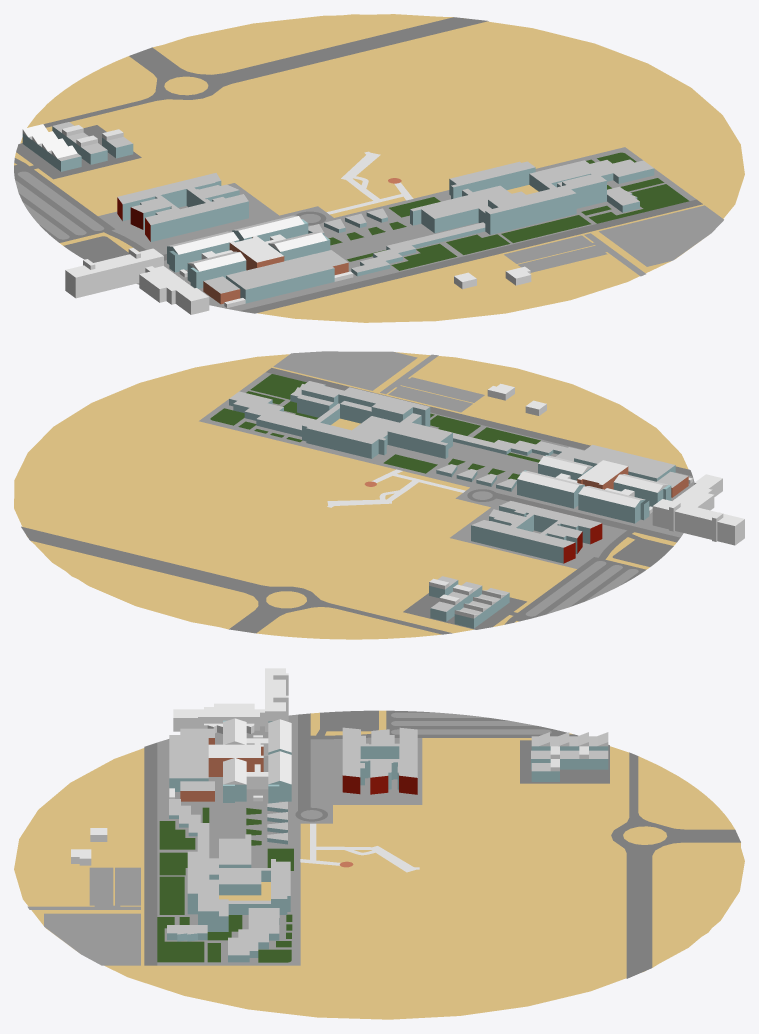
The model's file is CirceSurroundings.obj.
The picture shows the model from 3 angles, top to bottom: view 1: azimuth 30°, elevation 25°; view 2: azimuth 150°, elevation 25°; view 3: azimuth 270°, elevation 25°; orthographic projection. The views are drawn at different scales.
Parts seen in each view (by area): view 1: Solids, Solids__Buildings, Solids__Pavement, Solids__GenericGround, Solids__Roads, Solids__Grass, Solids__CirceConcrete; view 2: Solids, Solids__Buildings, Solids__Pavement, Solids__GenericGround, Solids__Roads, Solids__Grass, Solids__CirceConcrete; view 3: Solids, Solids__Buildings, Solids__Pavement, Solids__Roads, Solids__GenericGround, Solids__Grass, Solids__CirceConcrete.
Part boxes in pixels (bbox=[...]): Solids: bbox=[20, 14, 744, 322]; Solids__Buildings: bbox=[22, 122, 654, 314]; Solids__Pavement: bbox=[15, 147, 723, 310]; Solids__GenericGround: bbox=[14, 14, 538, 252]; Solids__Roads: bbox=[14, 17, 702, 313]; Solids__Grass: bbox=[328, 152, 689, 270]; Solids__CirceConcrete: bbox=[326, 151, 413, 214]; Solids: bbox=[14, 352, 688, 633]; Solids__Buildings: bbox=[229, 381, 744, 628]; Solids__Pavement: bbox=[199, 351, 694, 616]; Solids__GenericGround: bbox=[30, 418, 676, 639]; Solids__Roads: bbox=[21, 368, 692, 634]; Solids__Grass: bbox=[210, 374, 540, 479]; Solids__CirceConcrete: bbox=[327, 469, 465, 507]; Solids: bbox=[14, 738, 744, 1019]; Solids__Buildings: bbox=[71, 668, 608, 962]; Solids__Pavement: bbox=[27, 712, 551, 965]; Solids__Roads: bbox=[144, 710, 740, 978]; Solids__GenericGround: bbox=[219, 710, 740, 967]; Solids__Grass: bbox=[157, 807, 293, 962]; Solids__CirceConcrete: bbox=[300, 823, 419, 872].
Size of the model in its own units: 652 by 23.11 by 609.
